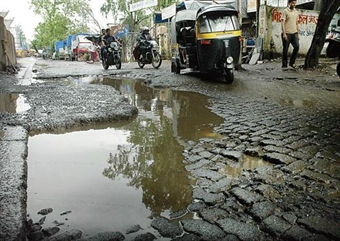pothole: (36, 64, 215, 225), (7, 82, 26, 116)
